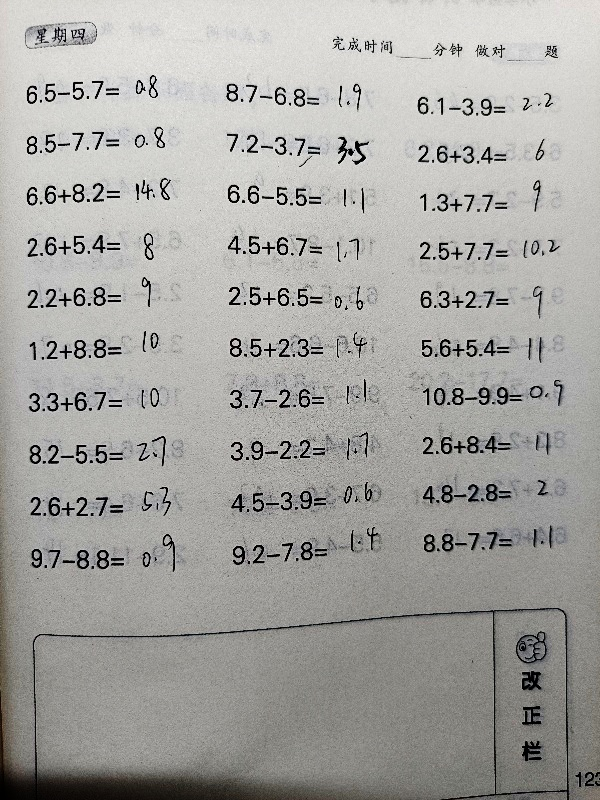equation: (217, 128, 397, 173), (415, 371, 595, 413), (221, 325, 401, 366), (220, 278, 400, 318), (20, 383, 200, 419), (22, 541, 202, 576), (223, 535, 403, 570), (22, 489, 202, 524), (222, 484, 402, 519), (21, 437, 201, 472), (221, 432, 401, 467), (221, 381, 401, 416), (20, 331, 200, 366), (19, 279, 199, 314), (18, 227, 198, 262), (17, 176, 197, 211), (17, 124, 197, 159), (17, 73, 197, 108), (414, 524, 594, 558), (413, 476, 593, 510), (413, 331, 593, 365), (411, 234, 591, 268), (218, 228, 398, 262), (412, 186, 592, 220), (218, 178, 398, 212), (409, 137, 589, 171), (408, 89, 588, 123), (217, 78, 397, 112), (413, 428, 593, 461), (412, 283, 592, 316)
